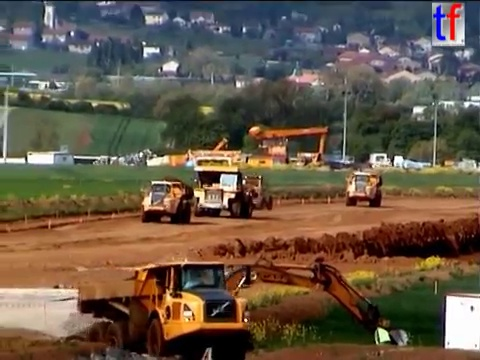crane: (246, 122, 331, 173)
excavator: (112, 254, 410, 353)
motor grader: (232, 173, 273, 210)
truck: (52, 257, 253, 360), (192, 164, 253, 218), (140, 176, 193, 225), (343, 167, 382, 207)
worker: (370, 319, 394, 358)
